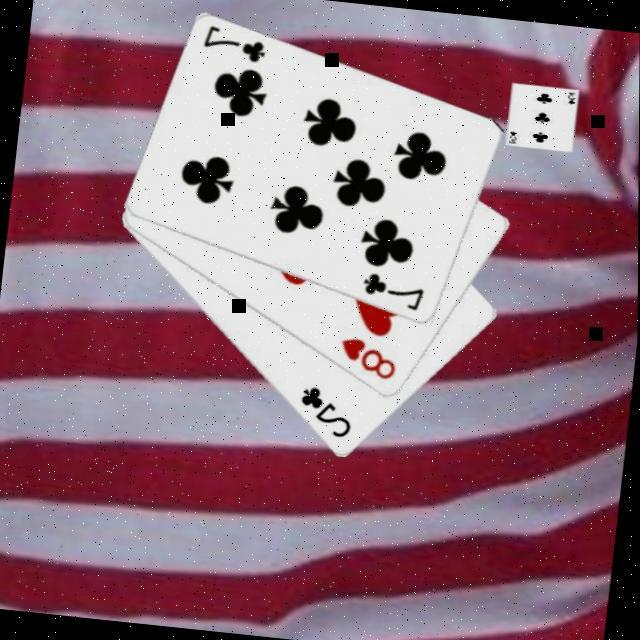2C: (294, 380, 359, 441)
7C: (358, 267, 430, 314), (199, 18, 271, 65)
8H: (335, 332, 403, 382)
